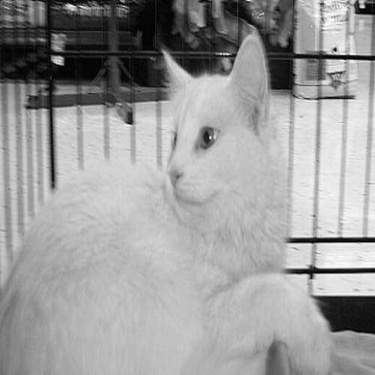cat: (14, 28, 342, 372)
